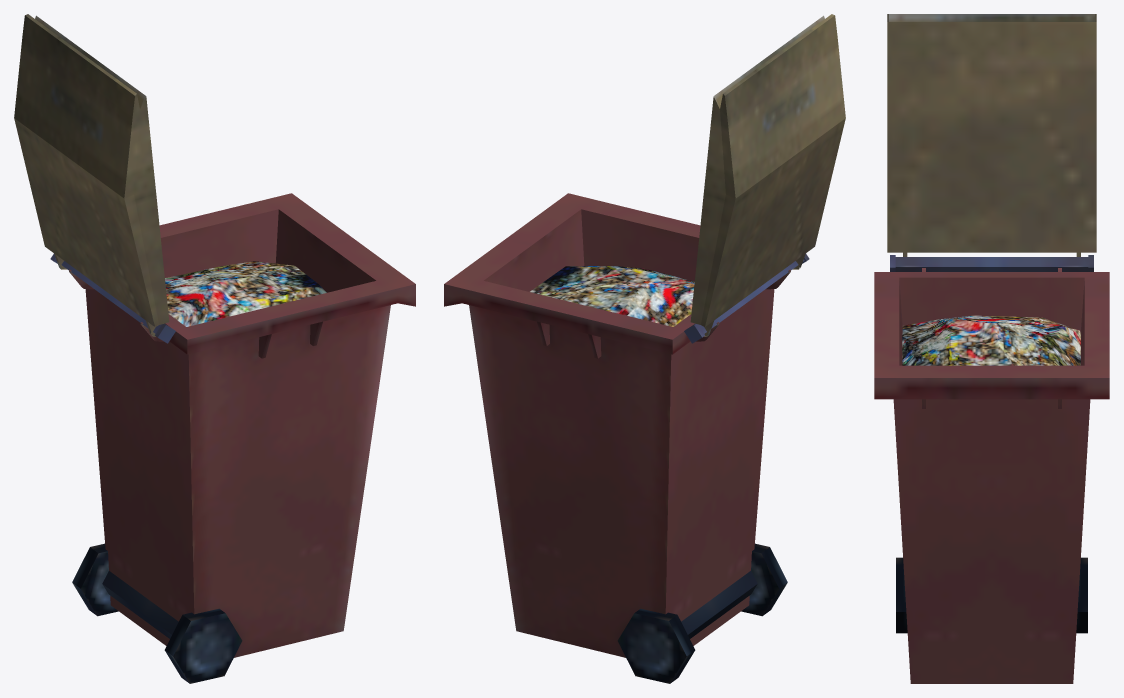
File: Urban_TrashCanAlt2Full_Model.fbx
The picture shows the model from 3 angles, left to right: view 1: azimuth 30°, elevation 25°; view 2: azimuth 150°, elevation 25°; view 3: azimuth 270°, elevation 25°; orthographic projection. The views are drawn at different scales.
Parts seen in each view (by area): view 1: Urban_TrashCanAlt2Full_Mesh; view 2: Urban_TrashCanAlt2Full_Mesh; view 3: Urban_TrashCanAlt2Full_Mesh.
Boxes of the visible parts, box(x1,y1,x2,y2) form: Urban_TrashCanAlt2Full_Mesh: box(14, 14, 415, 683); Urban_TrashCanAlt2Full_Mesh: box(444, 14, 845, 683); Urban_TrashCanAlt2Full_Mesh: box(874, 14, 1109, 683).
Bounding box in the file's own units: 1.03 × 2.1 × 0.7794.
